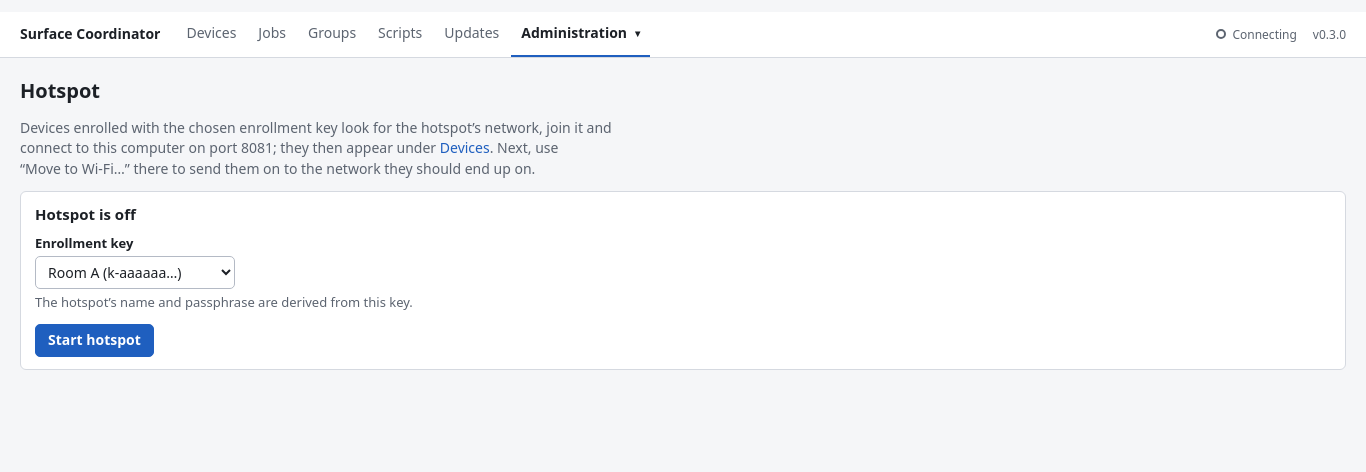
Hotspot, off › starts the hotspot for the chosen key and then shows its network and passphrase
Select "Room B (k-bbbbbb…)" in the dropdown labelled "Enrollment key" at {"x": 135, "y": 273}, box [35,256,235,290]
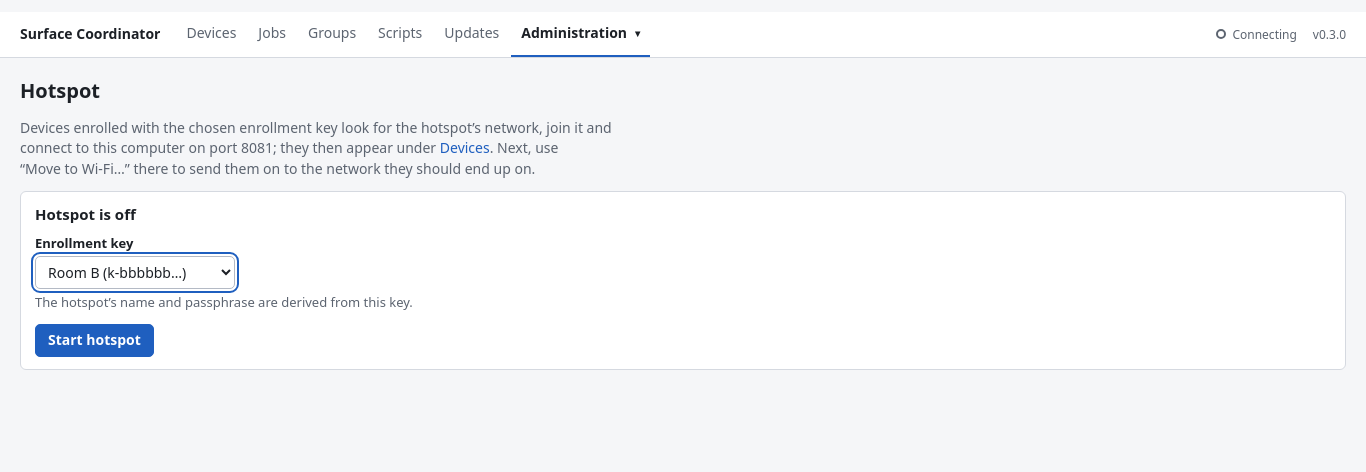
Click the button "Start hotspot" at {"x": 94, "y": 340}, box [35,324,154,357]
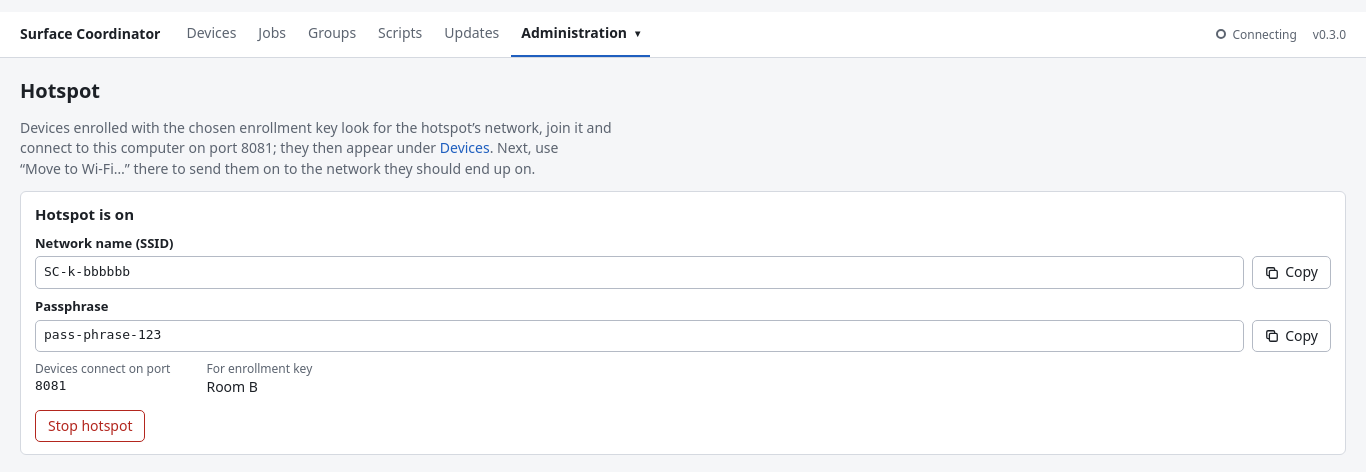
Check: the heading "Hotspot is on" is shown, box [35,204,134,224]
Check: the field showing "SC-k-bbbbbb" is shown, box [35,256,1244,289]
Check: the field labelled "Passphrase" holds "pass-phrase-123", box [35,320,1244,352]
